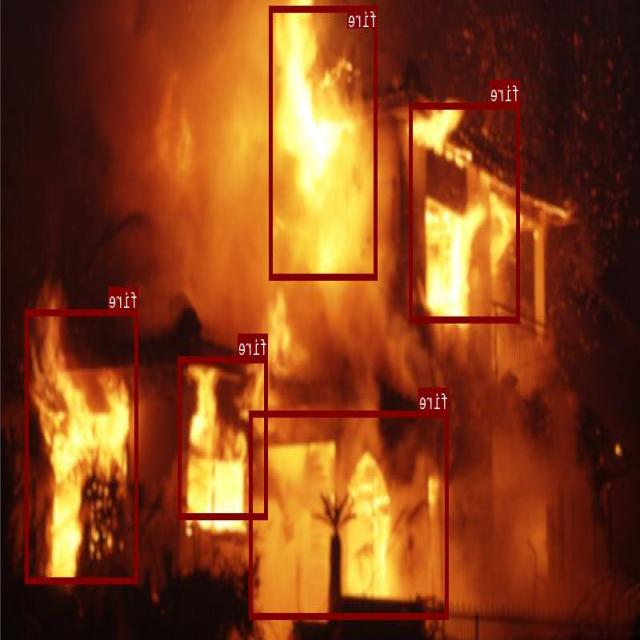fire: (250, 410, 450, 618), (26, 308, 139, 583), (270, 6, 378, 279), (410, 101, 520, 321), (179, 355, 269, 519)
